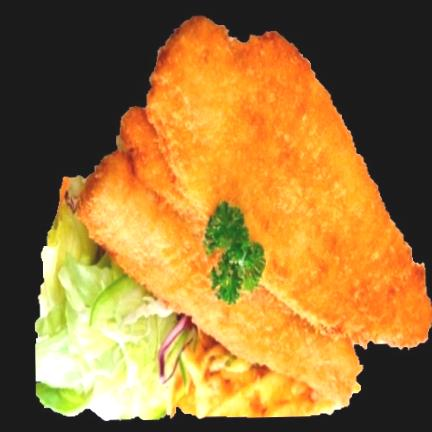chicken: (75, 18, 432, 409)
salad: (36, 202, 176, 420)
